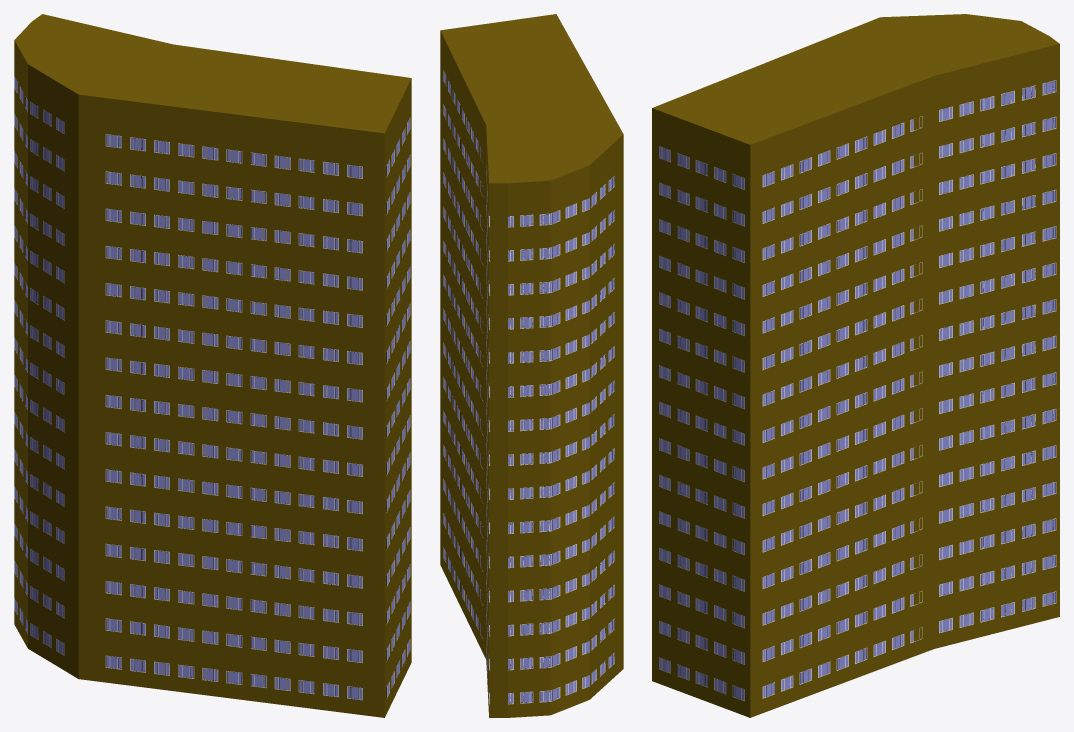
File: 6WestminsterRoad.fbx
3 views of the same model, side by side, from view 1: azimuth 30°, elevation 25°; view 2: azimuth 150°, elevation 25°; view 3: azimuth 270°, elevation 25° (orthographic). The views are drawn at different scales.
Parts seen in each view (by area): view 1: 6 WestminsterRoad, Window.003, Window.004, Window.002; view 2: 6 WestminsterRoad, Window.004, Window, Window.001; view 3: 6 WestminsterRoad, Window, Window.001, Window.002.
Part boxes in pixels (<box>): 6 WestminsterRoad: <box>14,14,411,717</box>; Window.003: <box>105,134,362,700</box>; Window.004: <box>14,76,64,655</box>; Window.002: <box>386,117,410,698</box>; 6 WestminsterRoad: <box>440,14,623,717</box>; Window.004: <box>508,176,614,704</box>; Window: <box>443,70,483,638</box>; Window.001: <box>486,164,490,704</box>; 6 WestminsterRoad: <box>652,14,1059,717</box>; Window: <box>762,116,922,698</box>; Window.001: <box>939,80,1056,633</box>; Window.002: <box>659,146,744,701</box>.
Bounding box in the file's own units: 4705 × 9605 × 6195.
